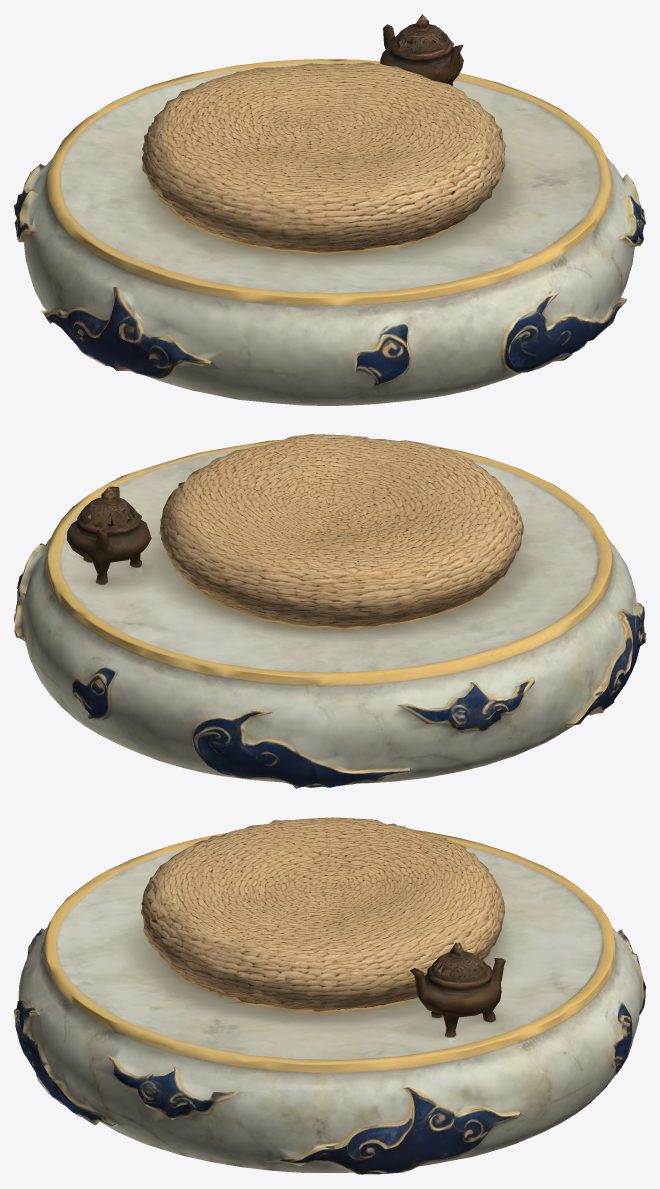
The model's file is meditation_platform.glb.
3 views of the same model, one above another, from view 1: azimuth 30°, elevation 25°; view 2: azimuth 150°, elevation 25°; view 3: azimuth 270°, elevation 25° (orthographic).
Parts seen in each view (by area): view 1: tripo_node_b839b514-bbd0-4f6c-b5a9-21d3aa37b993; view 2: tripo_node_b839b514-bbd0-4f6c-b5a9-21d3aa37b993; view 3: tripo_node_b839b514-bbd0-4f6c-b5a9-21d3aa37b993.
Boxes of the visible parts, box(x1,y1,x2,y2) form: tripo_node_b839b514-bbd0-4f6c-b5a9-21d3aa37b993: box(14, 14, 645, 405); tripo_node_b839b514-bbd0-4f6c-b5a9-21d3aa37b993: box(14, 434, 645, 788); tripo_node_b839b514-bbd0-4f6c-b5a9-21d3aa37b993: box(14, 817, 645, 1174).
Bounding box in the file's own units: 0.9976 × 0.3402 × 1.
1 material, 1 textured.
